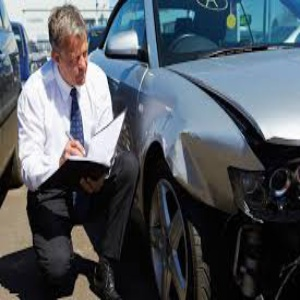bumper: (139, 113, 227, 205)
